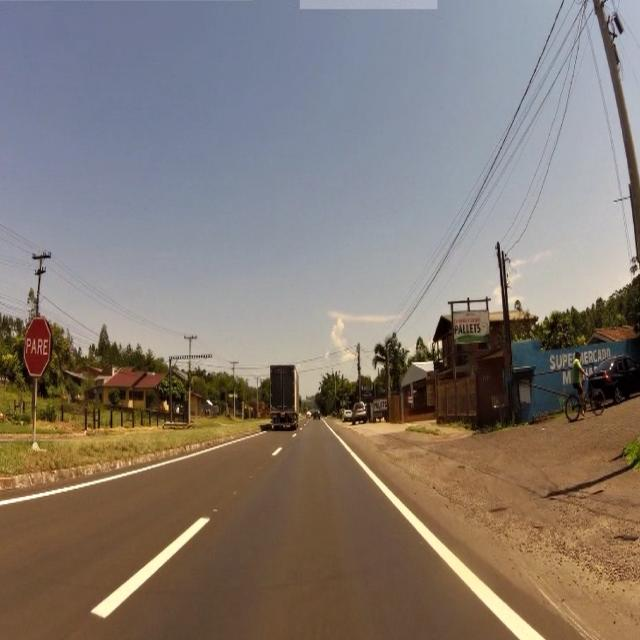R-2: (24, 316, 51, 376)
